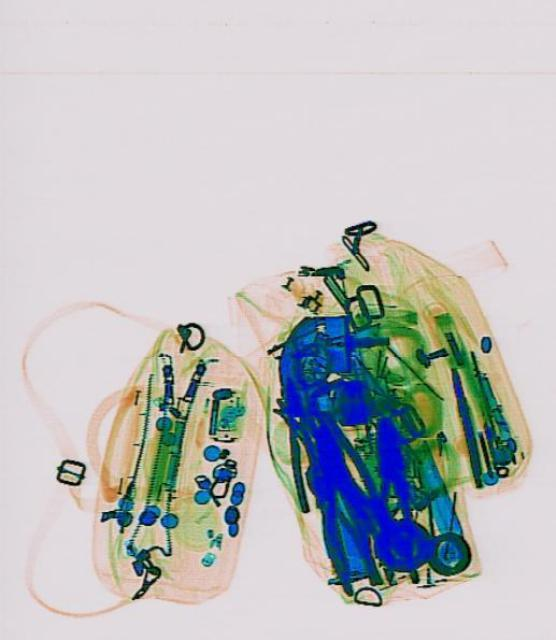Pliers: (293, 453, 381, 597), (268, 372, 336, 512), (366, 414, 417, 584)
